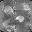people: (3, 6, 15, 17), (2, 19, 13, 28), (16, 15, 24, 23)
